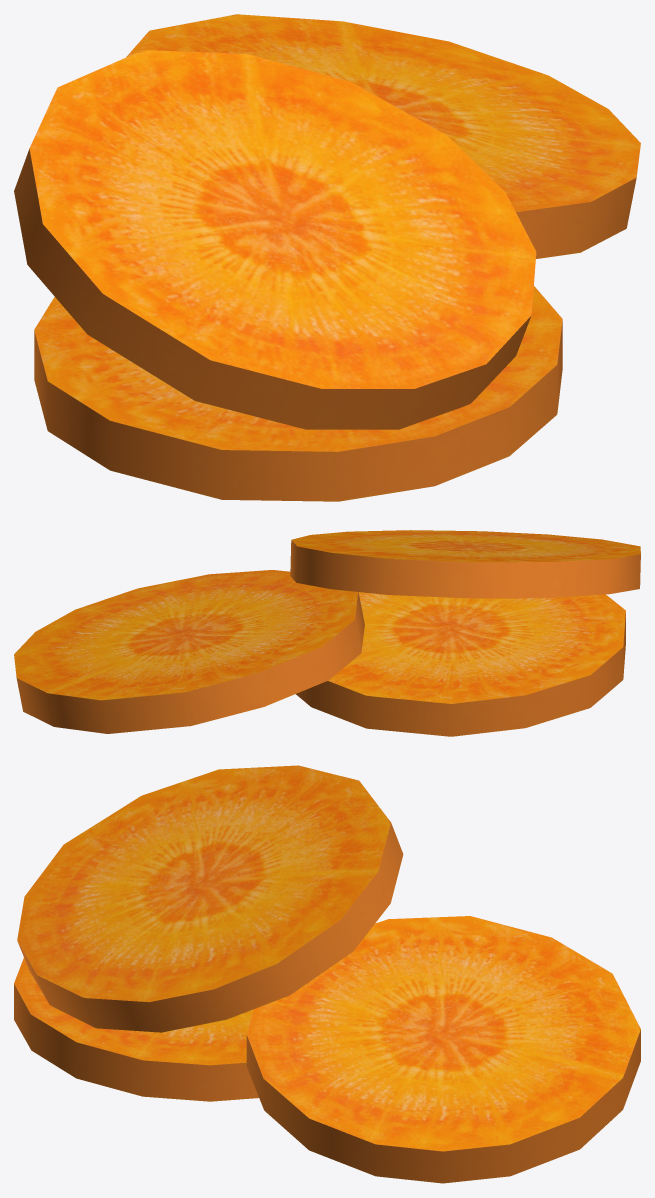
The model's file is carrot.glb.
3 renders of one model, top to bottom at view 1: azimuth 30°, elevation 25°; view 2: azimuth 150°, elevation 25°; view 3: azimuth 270°, elevation 25°, orthographic. The views are drawn at different scales.
Visible parts, largest first — view 1: pCylinder4; view 2: pCylinder4; view 3: pCylinder4.
Boxes of the visible parts, left/top/right/bottom form: pCylinder4: left=14, top=14, right=640, bottom=501; pCylinder4: left=14, top=530, right=640, bottom=736; pCylinder4: left=14, top=765, right=640, bottom=1183.
Bounding box in the file's own units: 0.0845 × 0.029 × 0.0867.
1 material, 1 textured.
